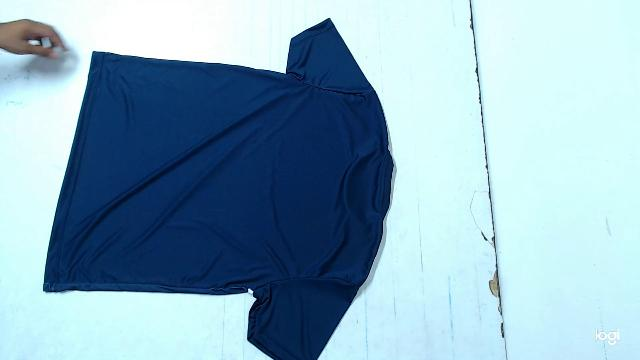new-garment: (43, 19, 393, 360)
